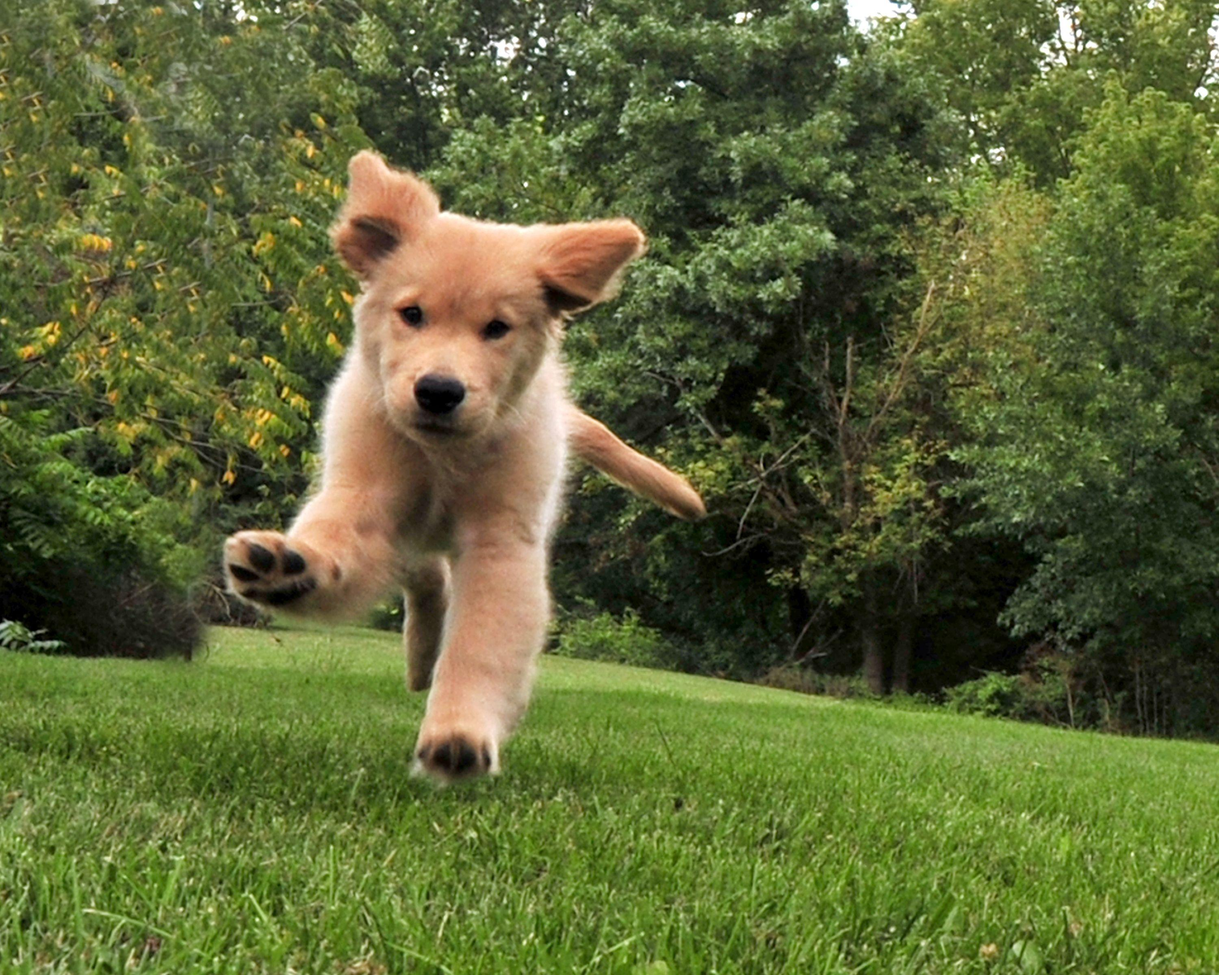puppy-dog: (221, 148, 707, 786)
